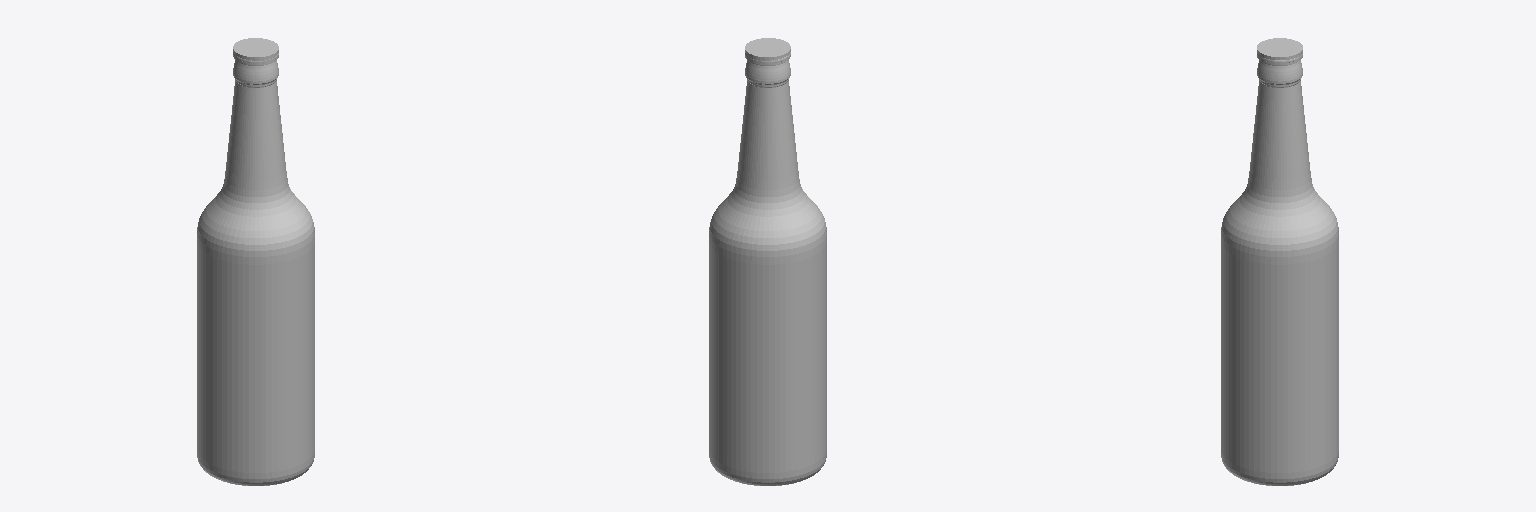
The model's file is beer.obj.
3 renders of one model, left to right at view 1: azimuth 30°, elevation 25°; view 2: azimuth 150°, elevation 25°; view 3: azimuth 270°, elevation 25°, orthographic.
Visible parts, largest first — view 1: bottle_bottle_mesh, Cylinder; view 2: bottle_bottle_mesh, Cylinder; view 3: bottle_bottle_mesh, Cylinder.
Part boxes in pixels (bbox=[...]): bottle_bottle_mesh: bbox=[197, 52, 314, 485]; Cylinder: bbox=[233, 38, 278, 64]; bottle_bottle_mesh: bbox=[709, 52, 826, 485]; Cylinder: bbox=[745, 38, 790, 64]; bottle_bottle_mesh: bbox=[1221, 54, 1338, 485]; Cylinder: bbox=[1257, 38, 1302, 64].
Size of the model in its own units: 2.37 by 9.2 by 2.37.